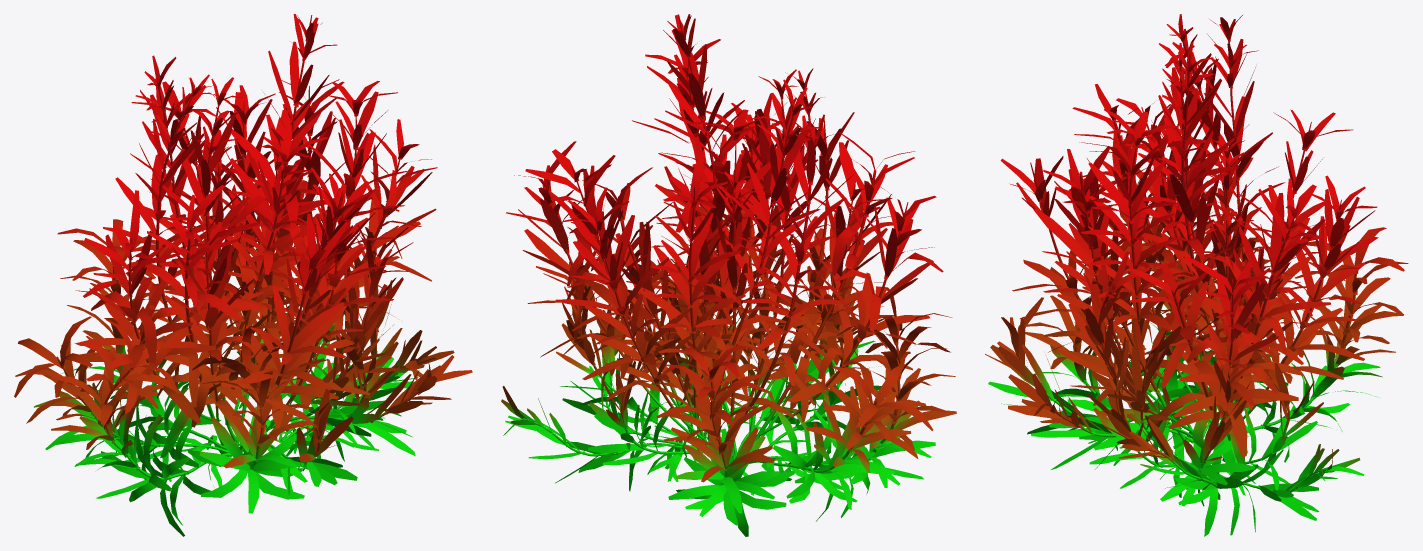
The model's file is Var2_LOD1.fbx.
3 views of the same model, side by side, from view 1: azimuth 30°, elevation 25°; view 2: azimuth 150°, elevation 25°; view 3: azimuth 270°, elevation 25° (orthographic).
Visible parts, largest first — view 1: _f9jr_Var2_LOD1; view 2: _f9jr_Var2_LOD1; view 3: _f9jr_Var2_LOD1.
Boxes of the visible parts, left/top/right/bottom form: _f9jr_Var2_LOD1: left=14, top=14, right=472, bottom=536; _f9jr_Var2_LOD1: left=501, top=14, right=956, bottom=536; _f9jr_Var2_LOD1: left=985, top=14, right=1408, bottom=536.
Size of the model in its own units: 26.82 by 29.35 by 23.4.
